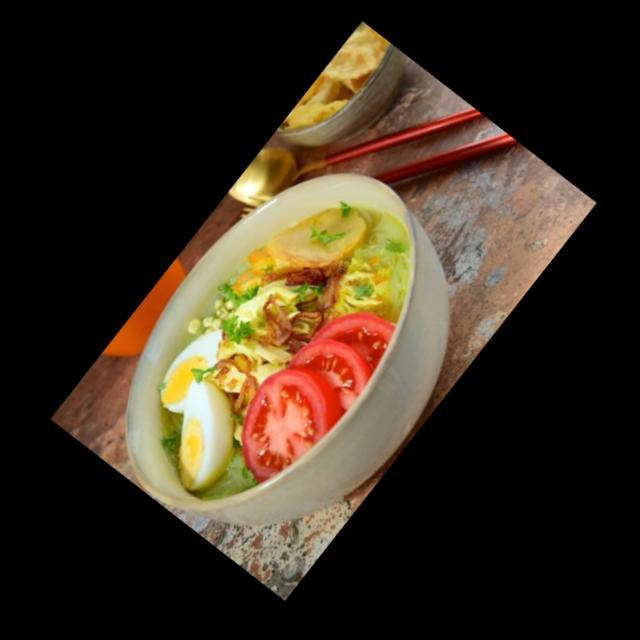Soto: (109, 236, 414, 464)
